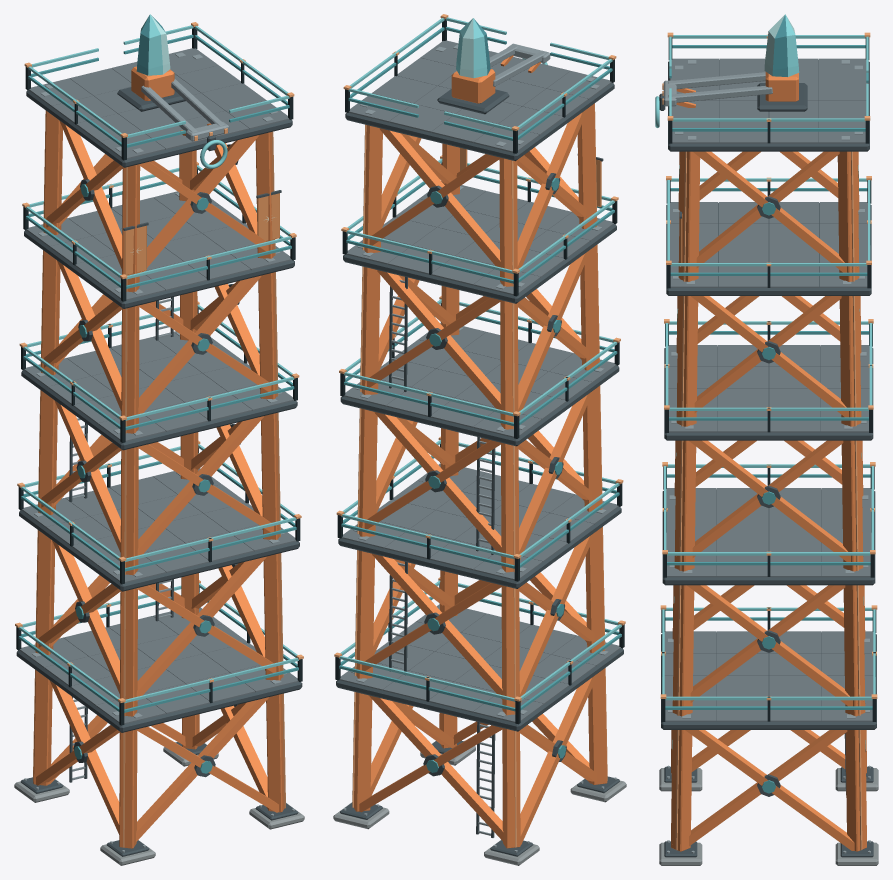
Rendered from wsc-module-001-west-grapple-tower.glb.
The picture shows the model from 3 angles, left to right: view 1: azimuth 30°, elevation 25°; view 2: azimuth 150°, elevation 25°; view 3: azimuth 270°, elevation 25°; orthographic projection. The views are drawn at different scales.
Parts seen in each view (by area): view 1: Signal orange powdercoat, Textured gray deck panels, Graphite platform edge, Teal anodized rails, Light turquoise edges, Orange painted edge, Near-black rail posts, Steel landing trims, Concrete footing, Rescue pennant, Faceted cyan shard; view 2: Signal orange powdercoat, Textured gray deck panels, Graphite platform edge, Teal anodized rails, Light turquoise edges, Orange painted edge, Steel landing trims, Near-black rail posts, Concrete footing, Faceted cyan shard; view 3: Textured gray deck panels, Signal orange powdercoat, Graphite platform edge, Light turquoise edges, Teal anodized rails, Orange painted edge, Steel landing trims, Near-black rail posts, Concrete footing, Faceted cyan shard.
Boxes of the visible parts, x1,y1,x2,y2 form: Signal orange powdercoat: (33,66,284,848); Textured gray deck panels: (19,48,298,724); Graphite platform edge: (16,87,302,856); Teal anodized rails: (18,34,298,773); Light turquoise edges: (18,25,298,703); Orange painted edge: (15,22,303,847); Near-black rail posts: (16,27,302,725); Steel landing trims: (24,52,294,852); Concrete footing: (14,743,304,865); Rescue pennant: (124,193,279,275); Faceted cyan shard: (136,14,170,75); Signal orange powdercoat: (354,55,607,848); Textured gray deck panels: (339,40,620,722); Graphite platform edge: (336,82,623,856); Teal anodized rails: (339,27,621,772); Light turquoise edges: (339,17,621,701); Orange painted edge: (334,14,625,847); Steel landing trims: (343,43,616,852); Near-black rail posts: (335,19,624,724); Concrete footing: (333,741,626,865); Faceted cyan shard: (456,18,490,78); Textured gray deck panels: (664,58,873,721); Signal orange powdercoat: (671,72,866,851); Graphite platform edge: (659,60,876,857); Light turquoise edges: (655,35,875,700); Teal anodized rails: (665,45,872,793); Orange painted edge: (660,32,877,850); Steel landing trims: (663,60,870,853); Near-black rail posts: (661,37,876,721); Concrete footing: (659,768,878,865); Faceted cyan shard: (764,14,799,76).
Bounding box in the file's own units: 12.45 × 50.42 × 12.67.
